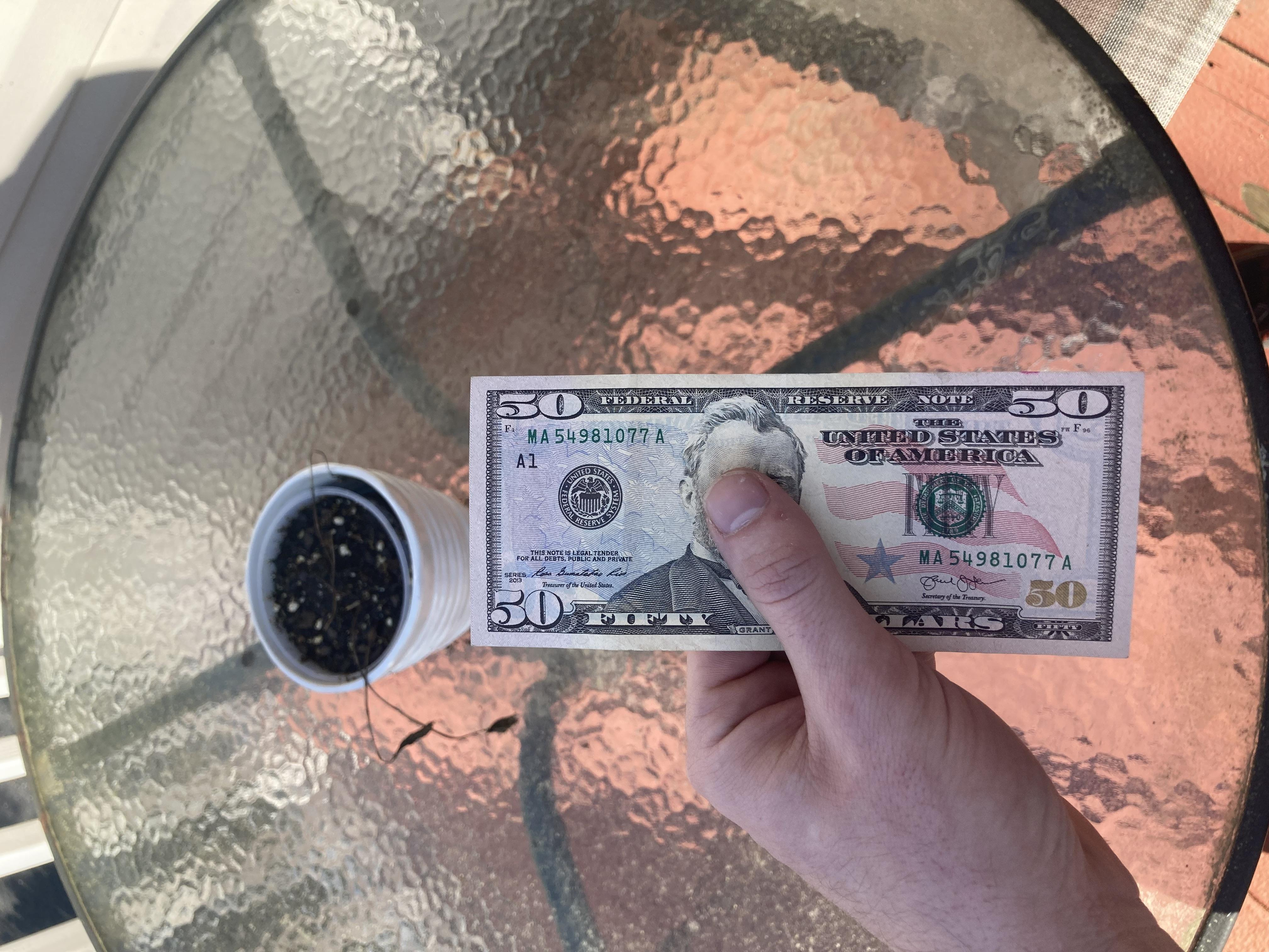fifty-front: (406, 353, 772, 853)
